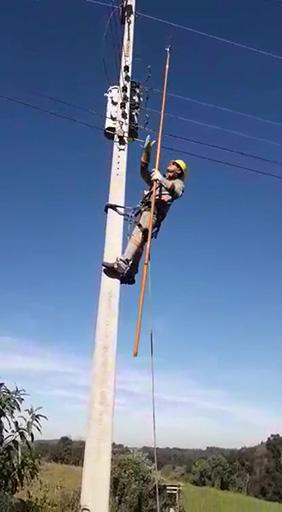Vara_Manobra: (131, 52, 171, 359)
